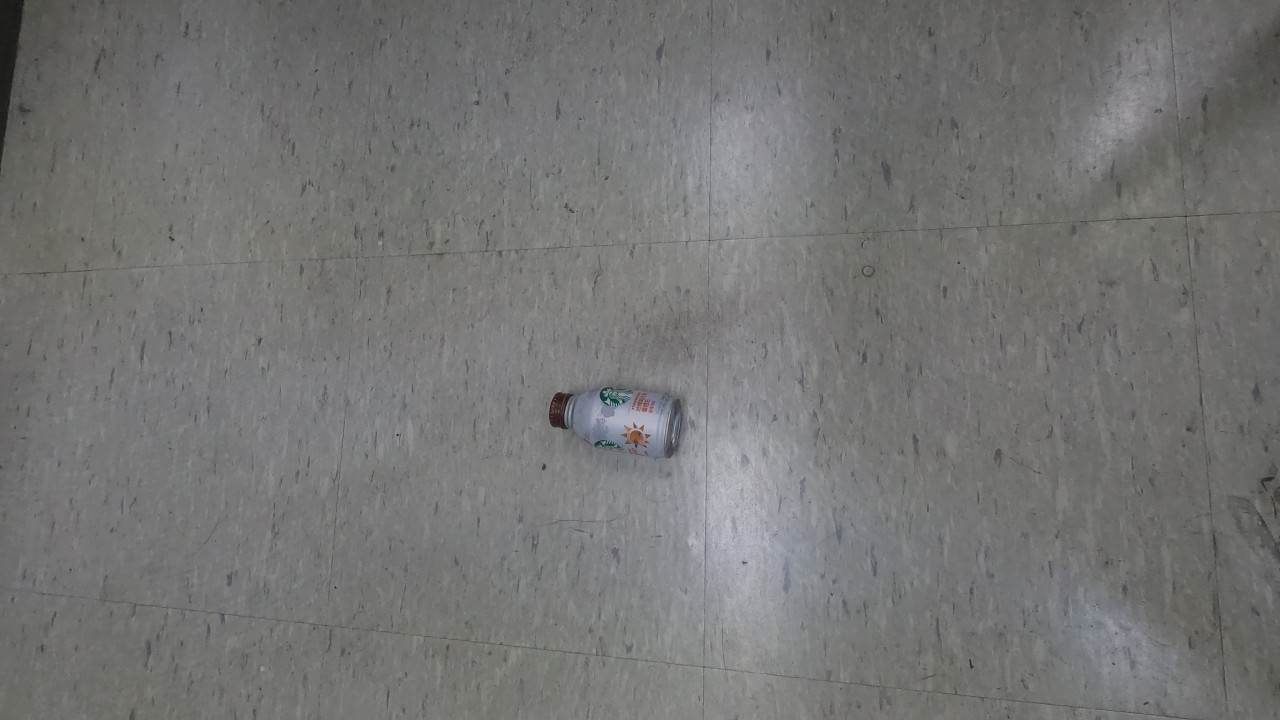c_3: (550, 386, 685, 460)
